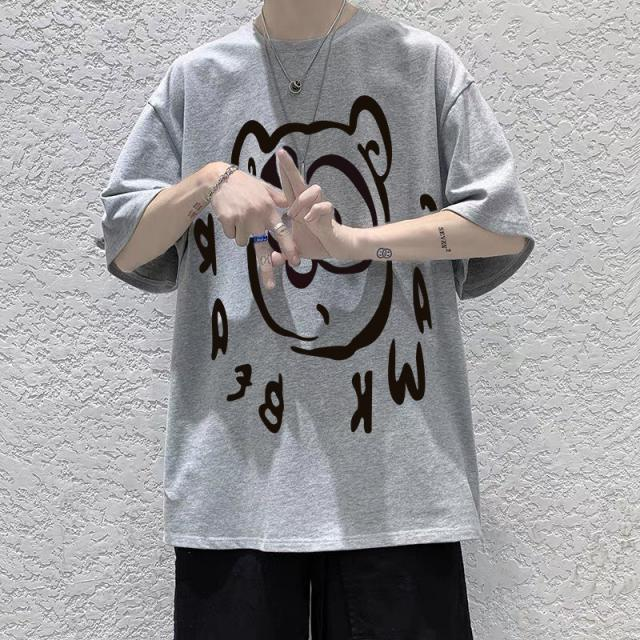Shirt: (99, 3, 542, 561)
